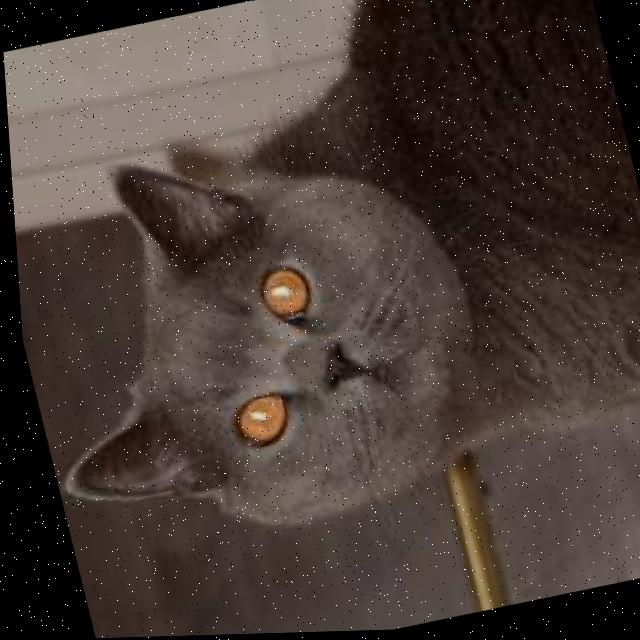British Shorthair: (0, 0, 640, 573)
